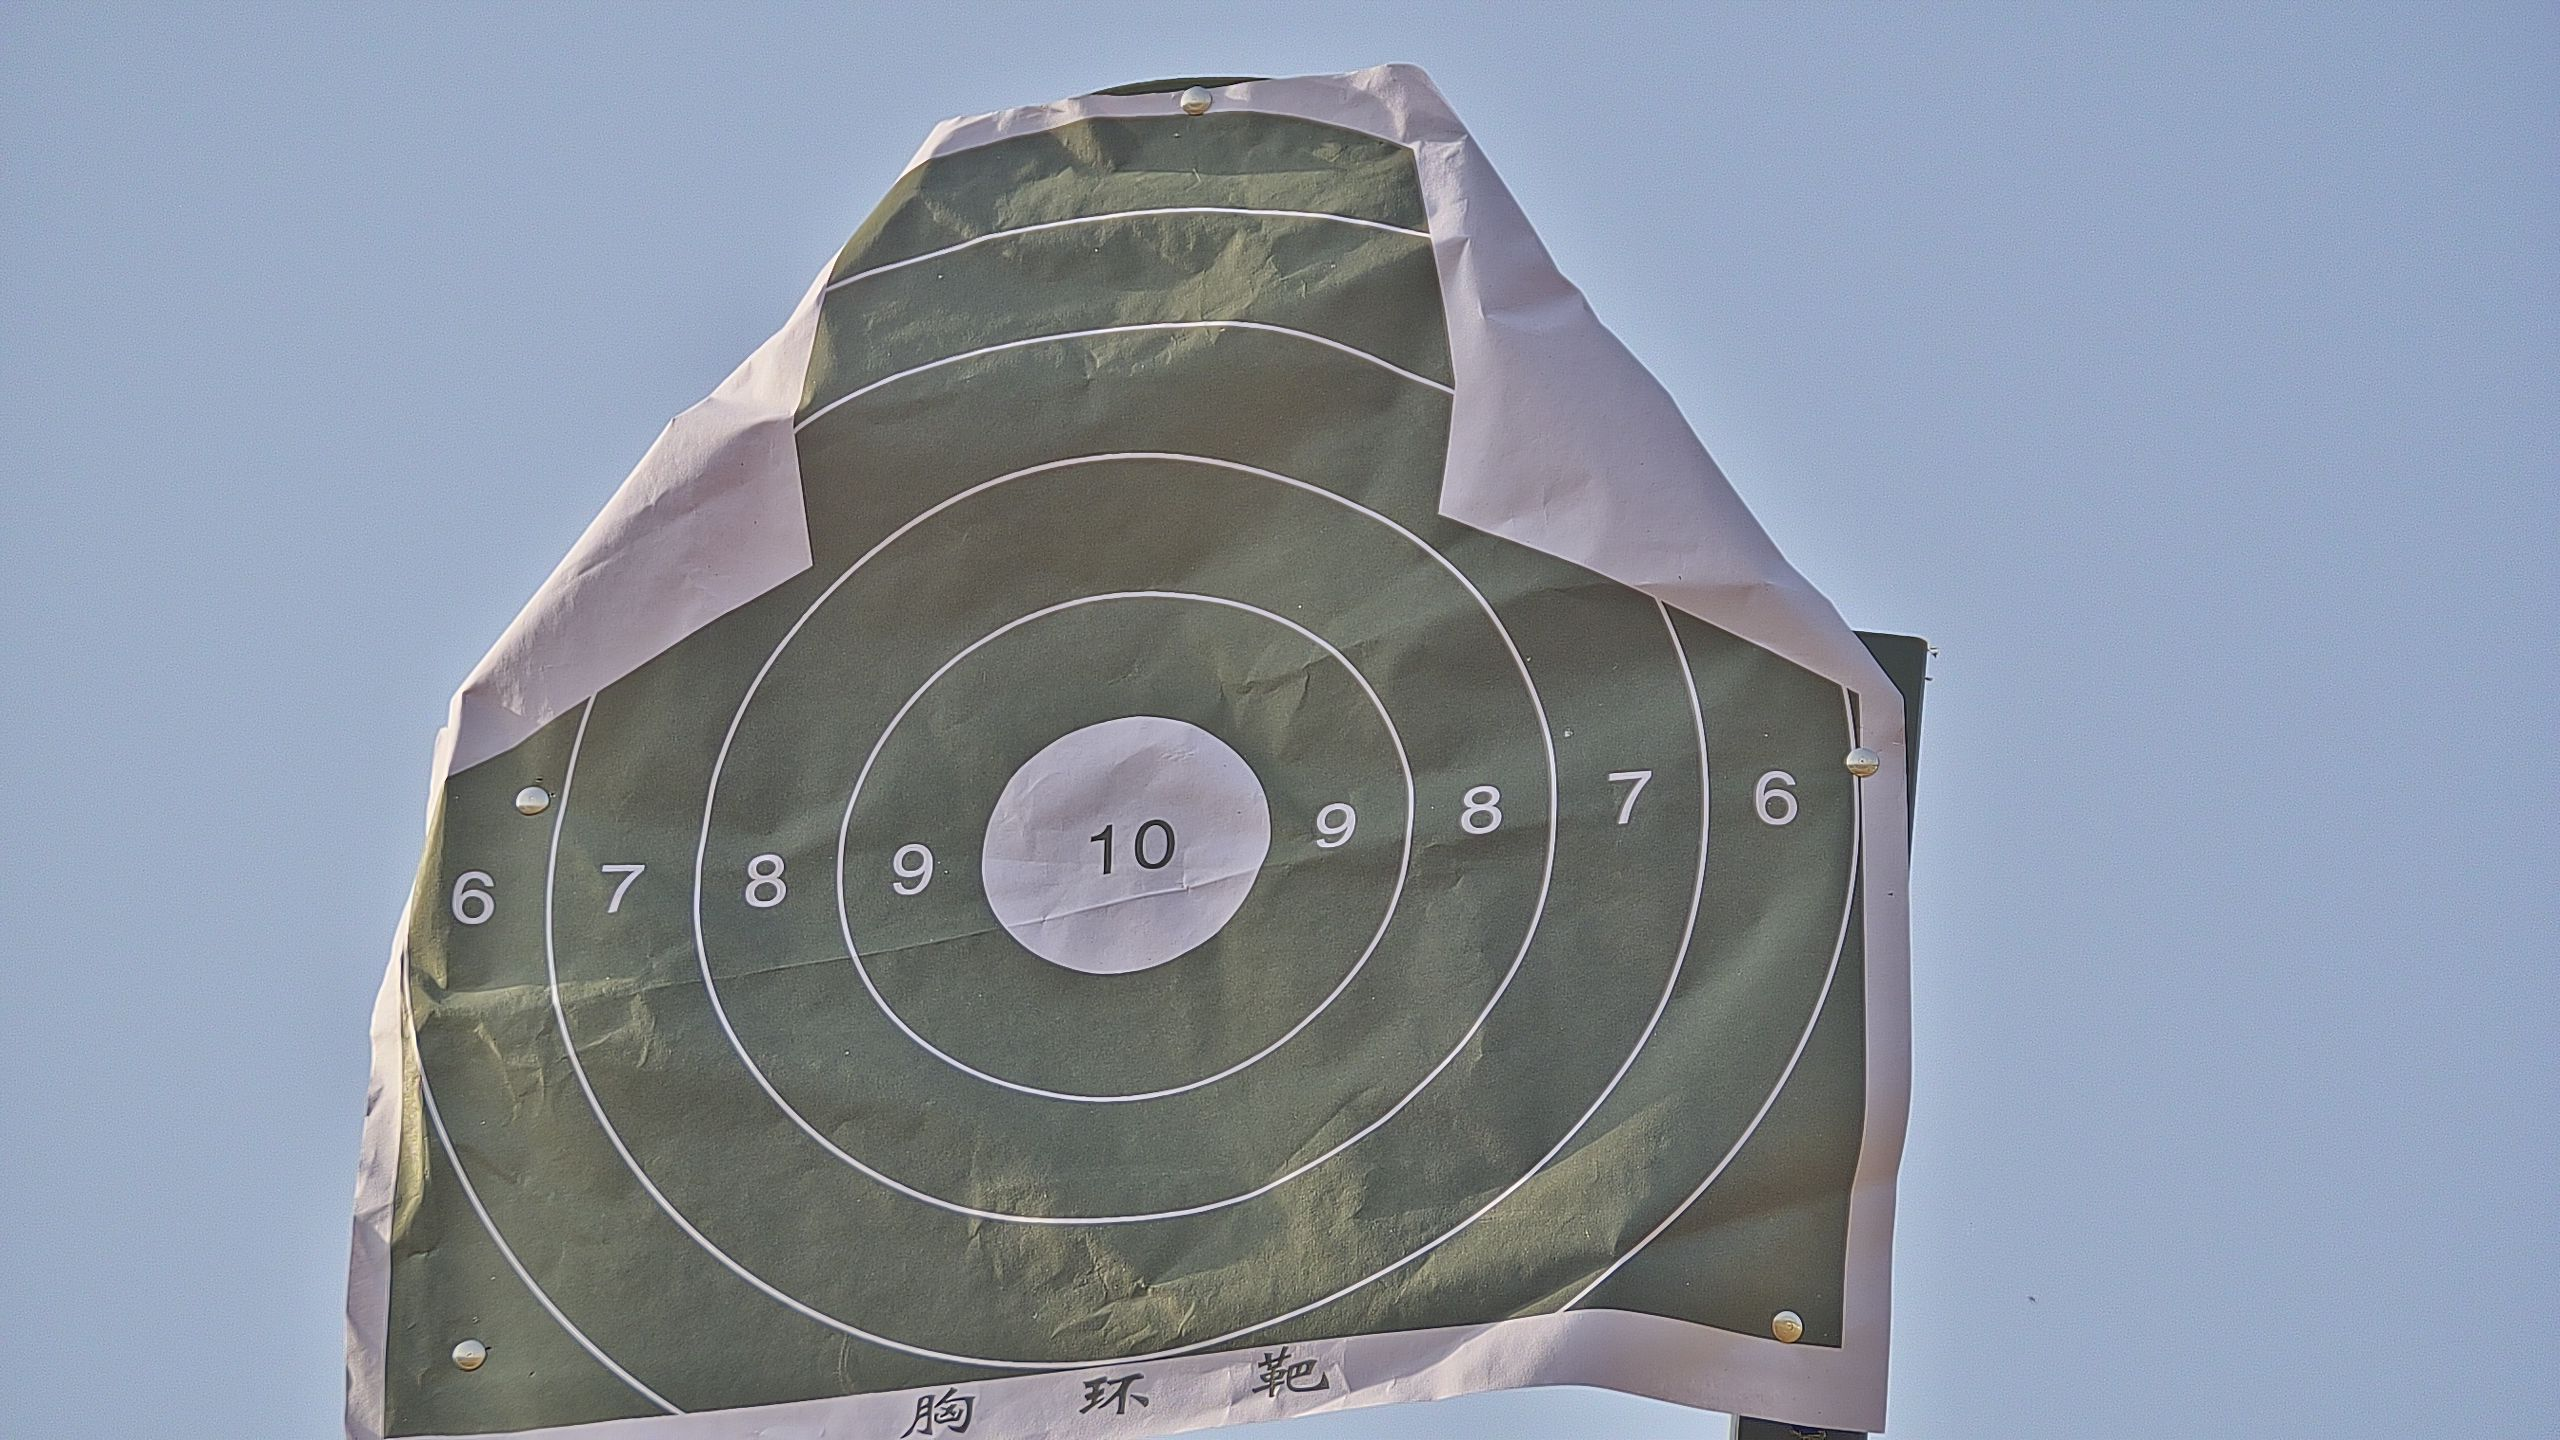kernel: (1122, 844, 1132, 851)
target: (383, 113, 1865, 1440)
ten: (978, 716, 1273, 978)
